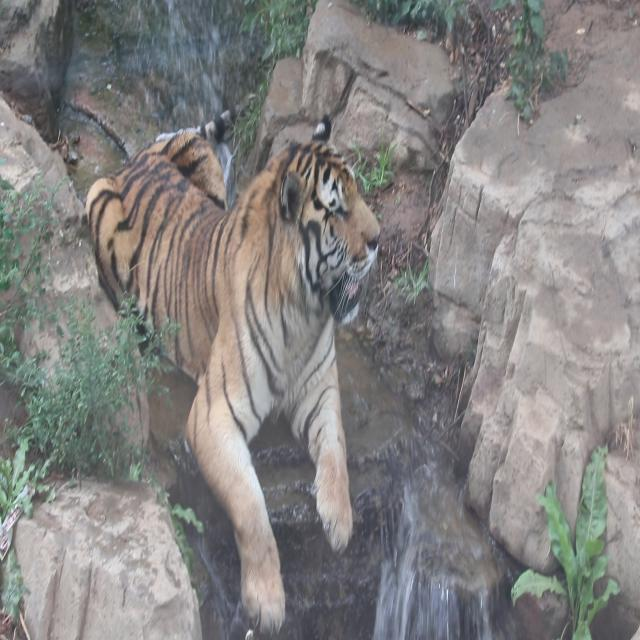Tiger: (74, 52, 395, 608)
